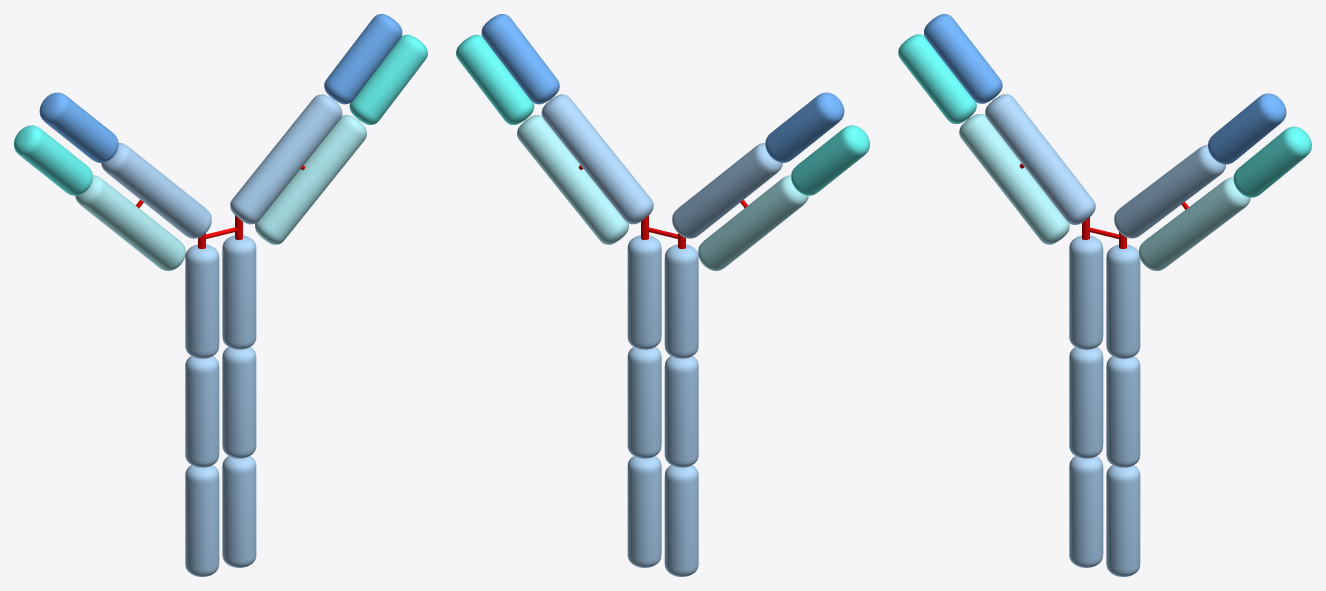
3 renders of one model, left to right at view 1: azimuth 30°, elevation 25°; view 2: azimuth 150°, elevation 25°; view 3: azimuth 330°, elevation 25°, orthographic.
Visible parts, largest first — view 1: IgE; view 2: IgE; view 3: IgE.
Boxes of the visible parts, left/top/right/bottom form: IgE: left=14, top=14, right=427, bottom=576; IgE: left=456, top=14, right=869, bottom=576; IgE: left=898, top=14, right=1311, bottom=576.
Size of the model in its own units: 101 by 122 by 7.34.
Materials: 1 (1 with a texture image).
